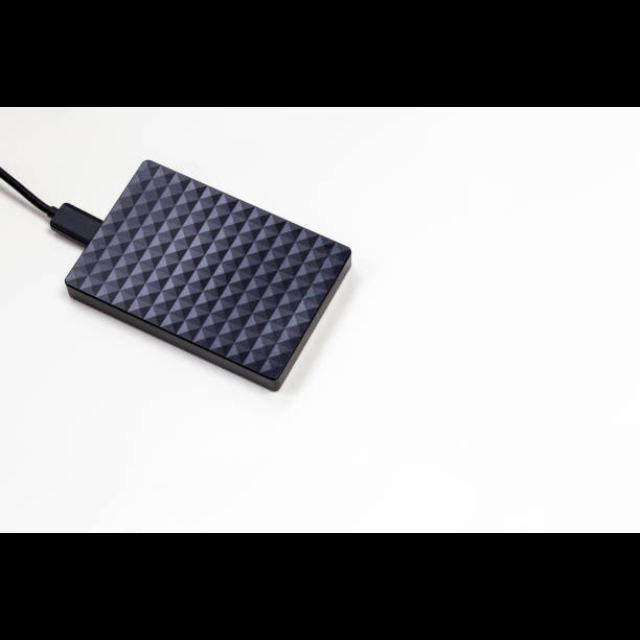HDD: (65, 160, 352, 392)
